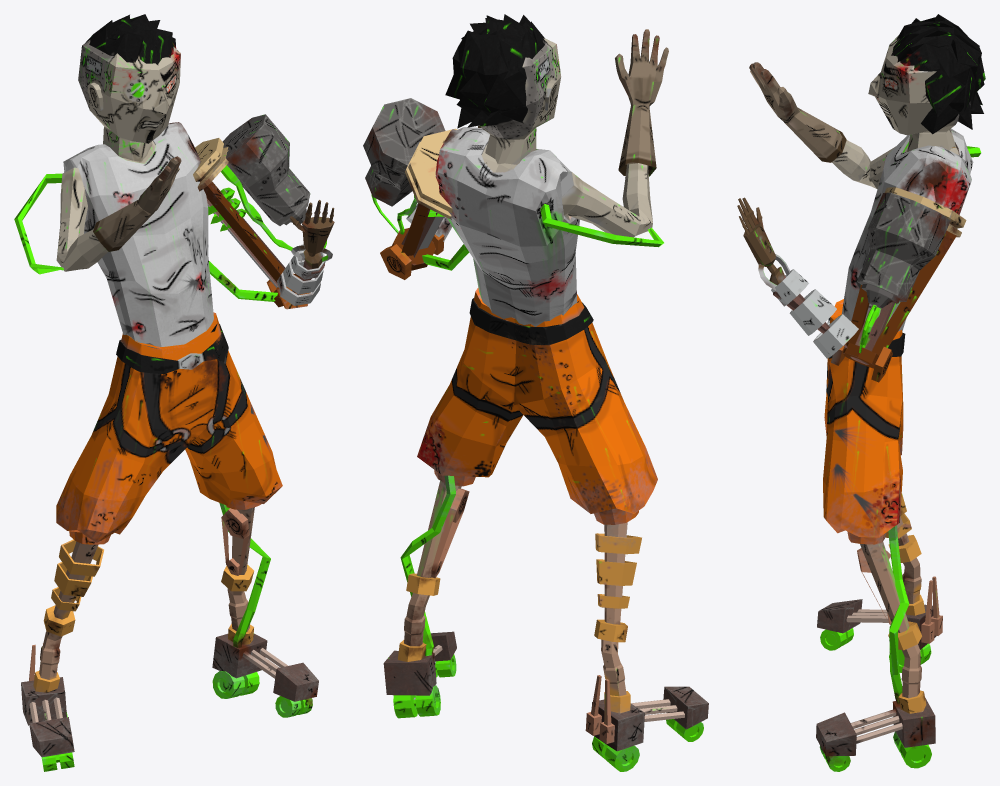
File: CyborgFINALAnimation_000022.obj
3 renders of one model, left to right at view 1: azimuth 30°, elevation 25°; view 2: azimuth 150°, elevation 25°; view 3: azimuth 270°, elevation 25°, orthographic. The views are drawn at different scales.
Parts seen in each view (by area): view 1: CyborgMesh_Cube.002; view 2: CyborgMesh_Cube.002; view 3: CyborgMesh_Cube.002.
Boxes of the visible parts, x1=… form: CyborgMesh_Cube.002: x1=14, y1=14, x2=334, y2=771; CyborgMesh_Cube.002: x1=363, y1=14, x2=708, y2=771; CyborgMesh_Cube.002: x1=737, y1=14, x2=985, y2=771.
Size of the model in its own units: 4.36 by 9.53 by 3.09.
